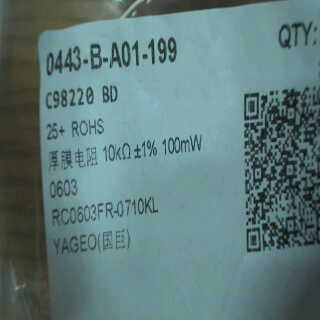10kR: (102, 143, 137, 167)
